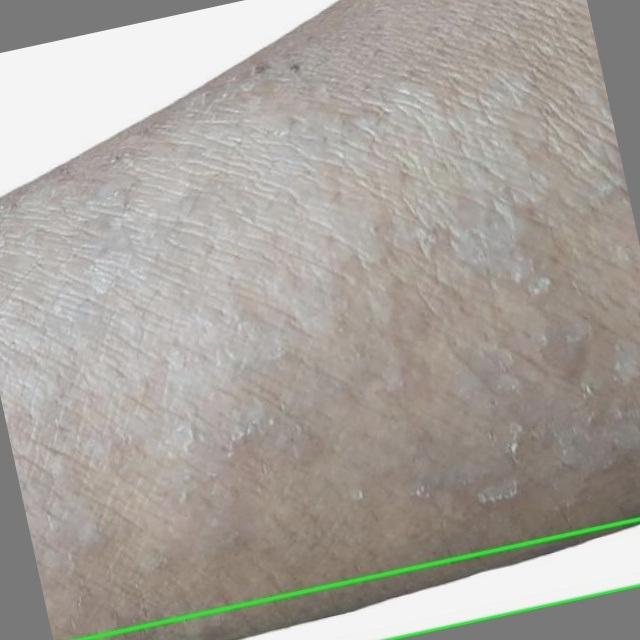Tinea Corporis: (82, 519, 639, 639)
